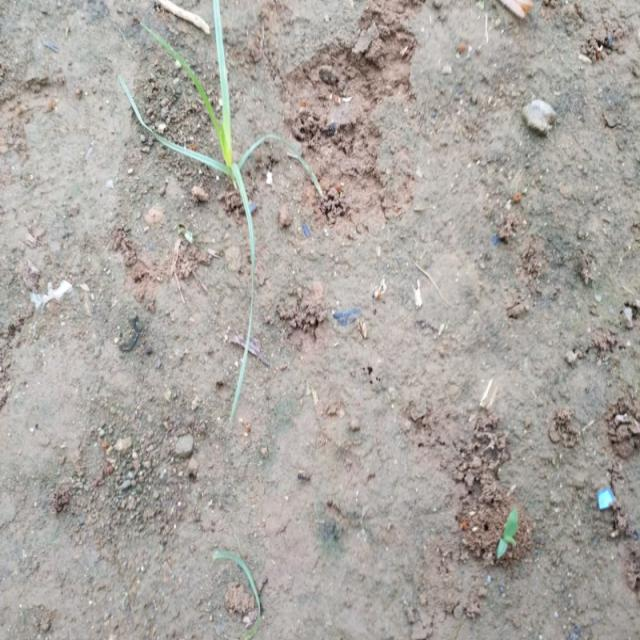sedge: (99, 1, 370, 357)
